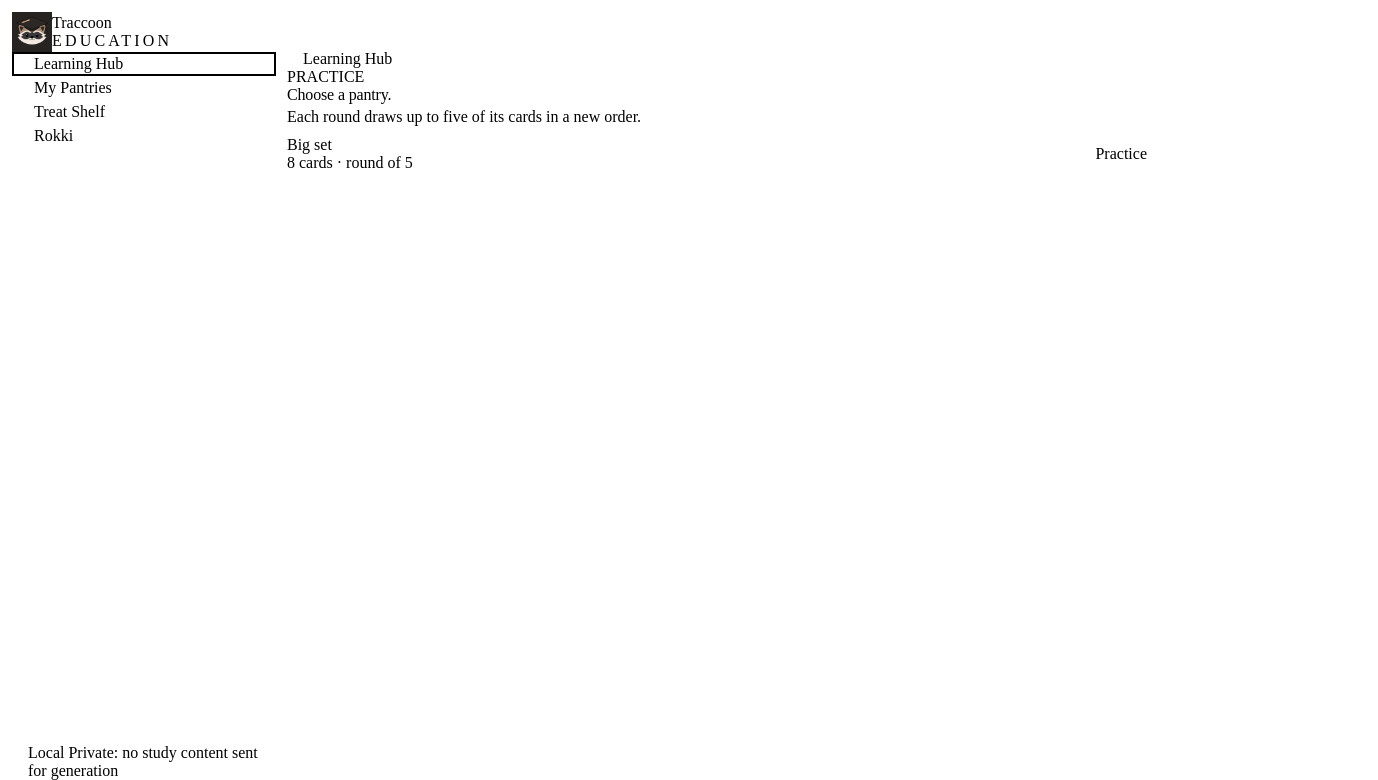
Test: Learning Hub practice › runs a five-card round from a larger pantry and returns to the Learning Hub
expect the list item "Big set" shows "8 cards · round of 5": met, box [287,130,1167,178]
What coordinates should you click on to do the following:
click the link with aria-label "Practice Big set"
I would click on:
 (1121, 154)
Its box is [1096,145,1147,162].
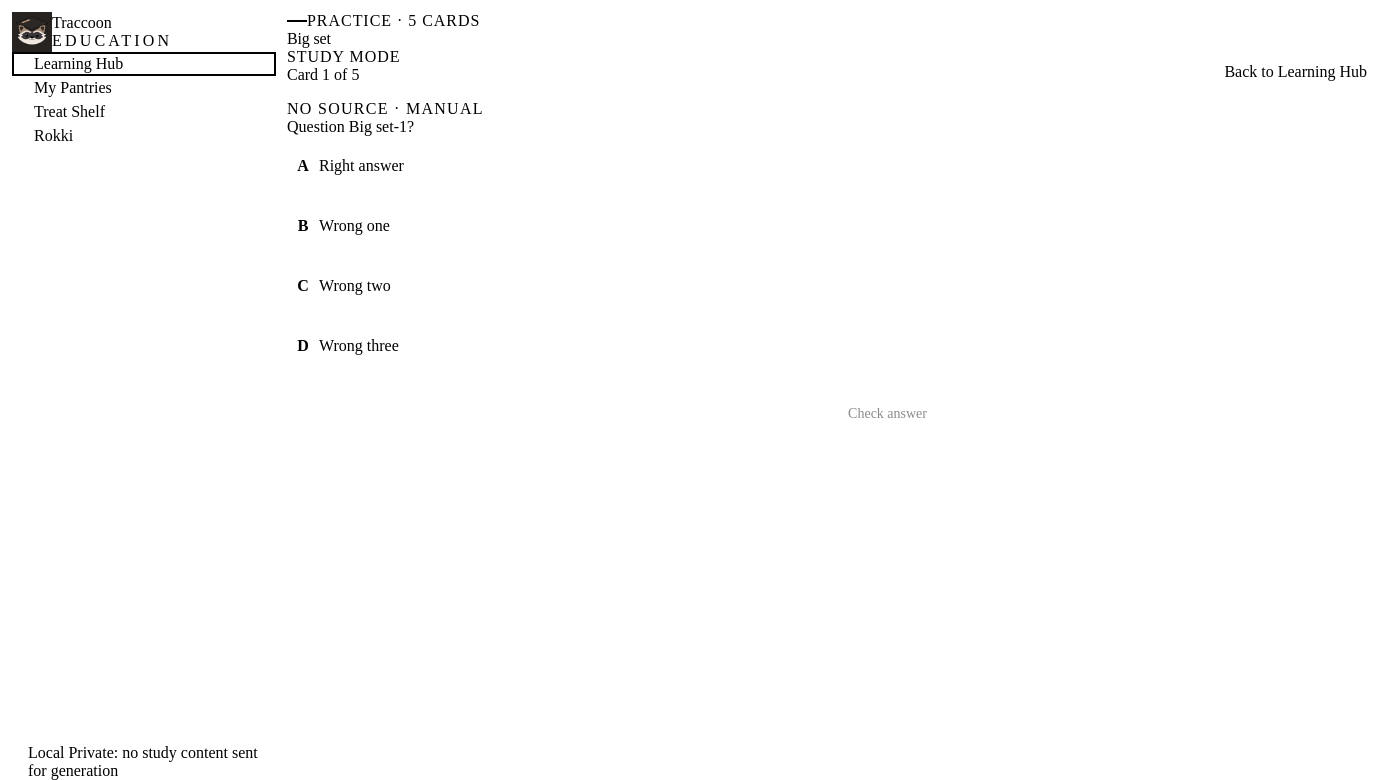
expect the text "PRACTICE · 5 CARDS" is shown: met, box [287,12,480,29]
expect the heading "Card 1 of 5" is shown: met, box [287,66,359,83]
What coordinates should you click on to do the following:
click the button "Back to Learning Hub"
I would click on:
 (1286, 72)
Its box is [1204,48,1367,96].
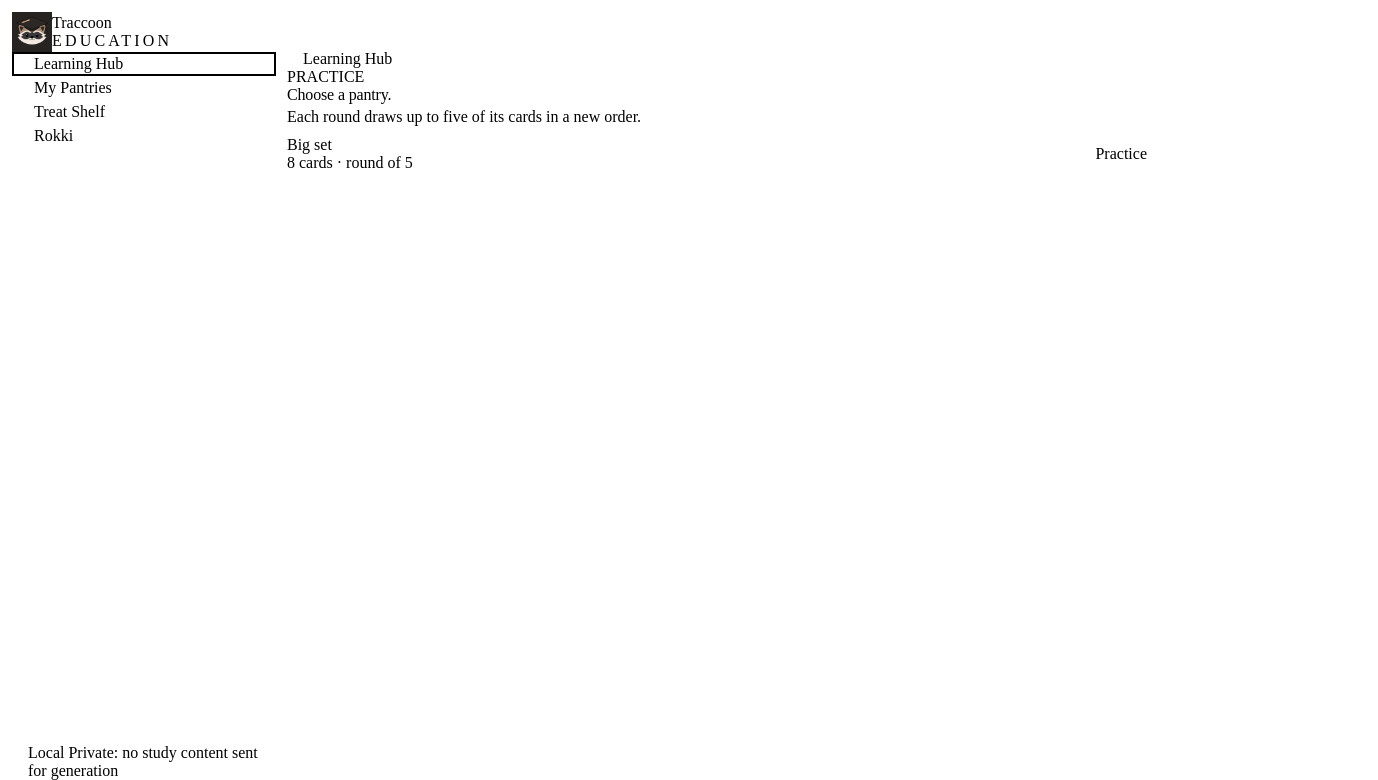
expect the heading "Choose a pantry." is shown: met, box [287,86,391,103]
